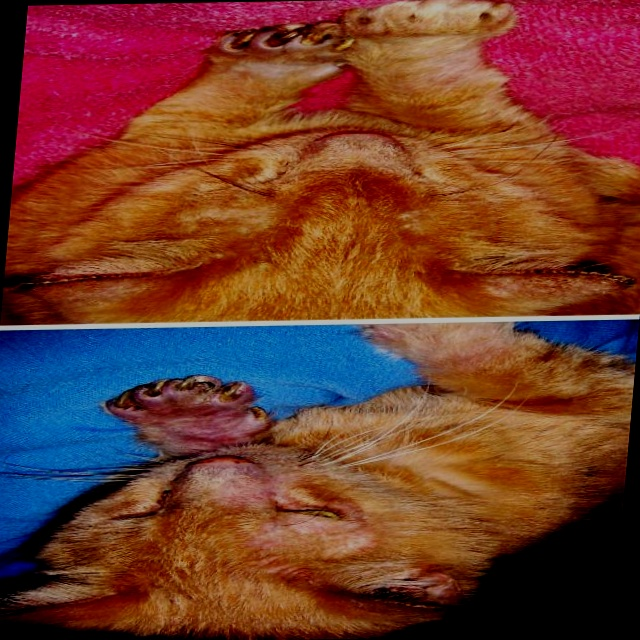ringworm: (120, 404, 252, 442), (240, 522, 365, 557)
